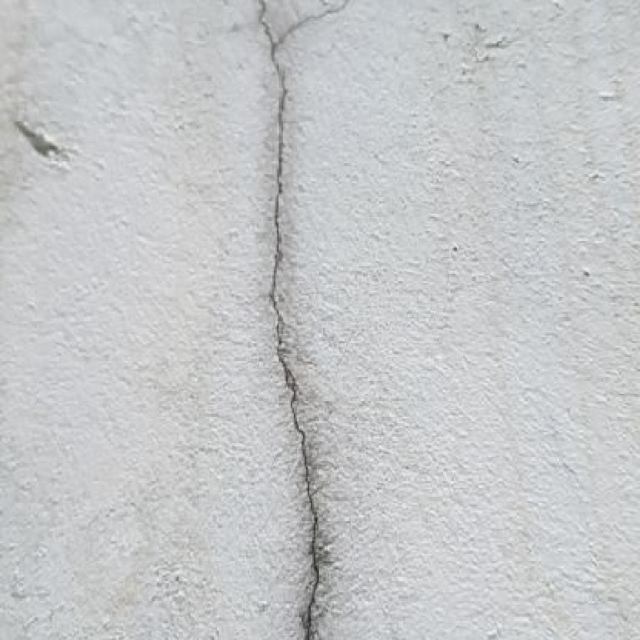multi-branched crack: (258, 6, 342, 634)
